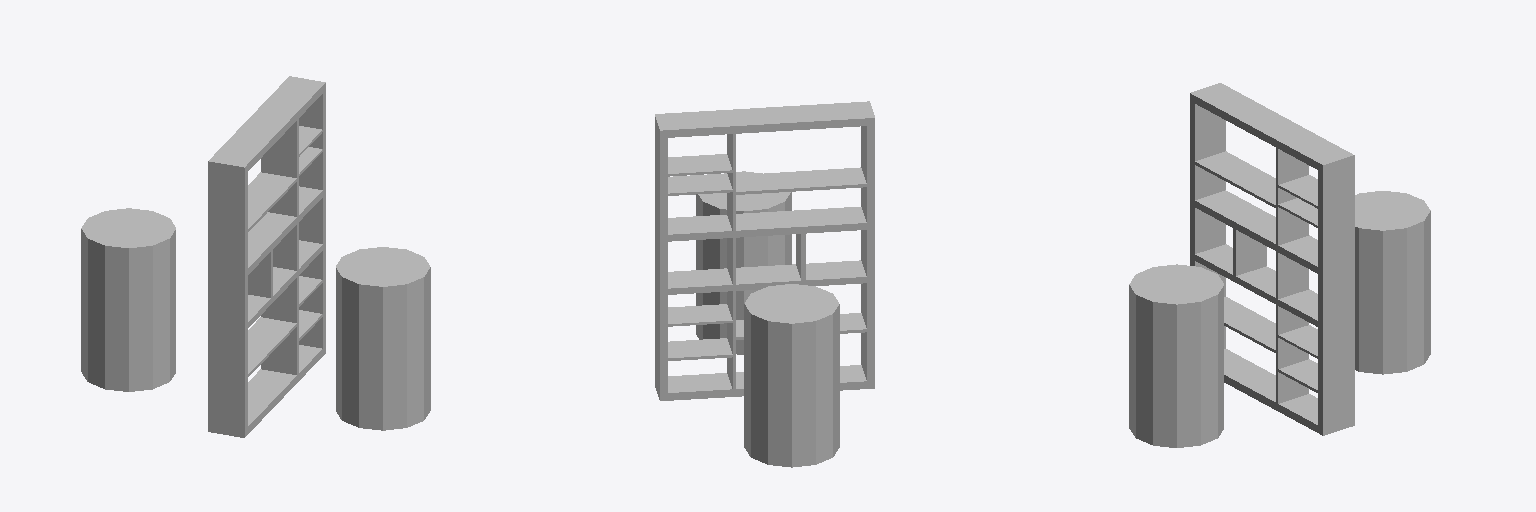
Rendered from drawer.obj.
The picture shows the model from 3 angles: view 1: azimuth 30°, elevation 25°; view 2: azimuth 150°, elevation 25°; view 3: azimuth 270°, elevation 25°; orthographic projection.
Visible parts, largest first — view 1: drawer.obj; view 2: drawer.obj; view 3: drawer.obj.
Part boxes in pixels (bbox=[...]): drawer.obj: bbox=[81, 76, 430, 437]; drawer.obj: bbox=[655, 101, 874, 467]; drawer.obj: bbox=[1129, 83, 1430, 447].
Size of the model in its own units: 17 by 18.83 by 19.